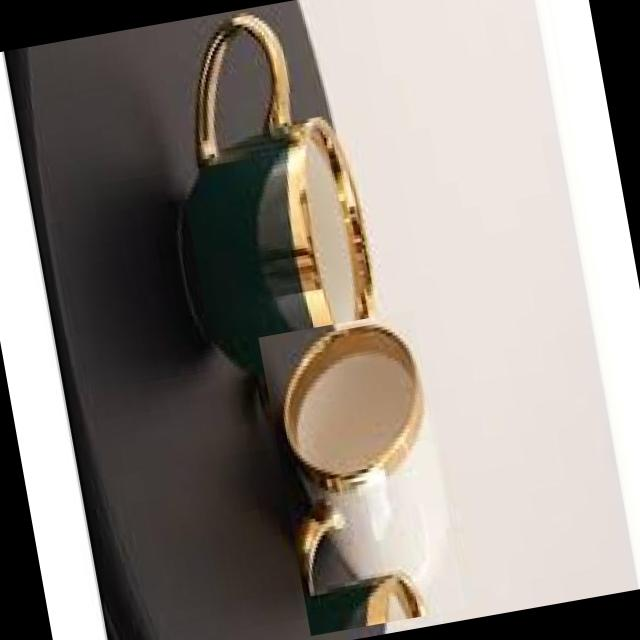Coffee Mug: (138, 1, 382, 351), (259, 311, 467, 612)
